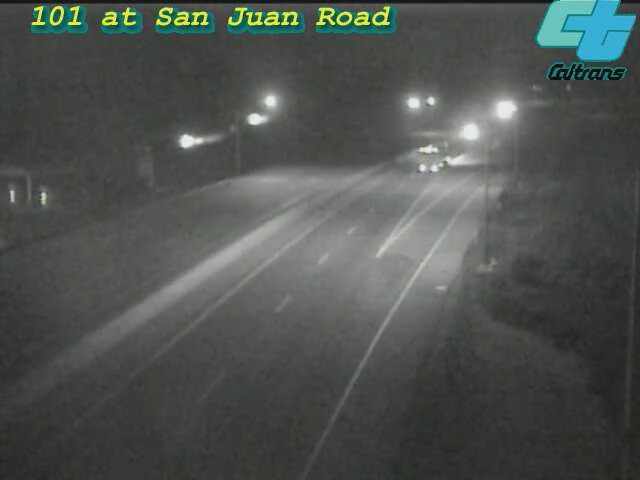vehicle: (445, 106, 495, 156), (480, 85, 530, 135), (407, 133, 457, 183)
